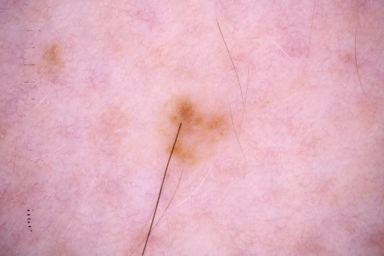melanoma: (167, 102, 231, 165)
